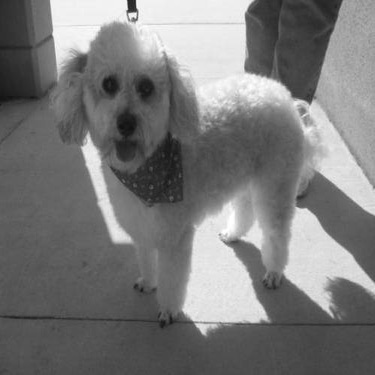dog: (37, 11, 328, 329)
